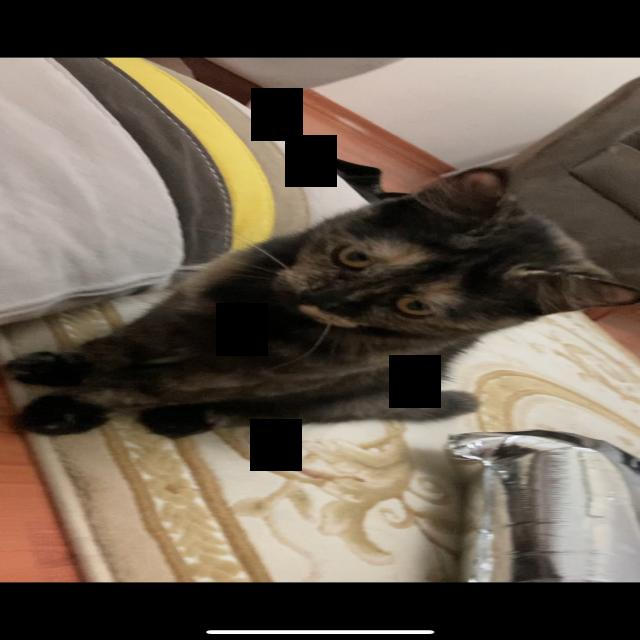authorized: (5, 154, 638, 440)
